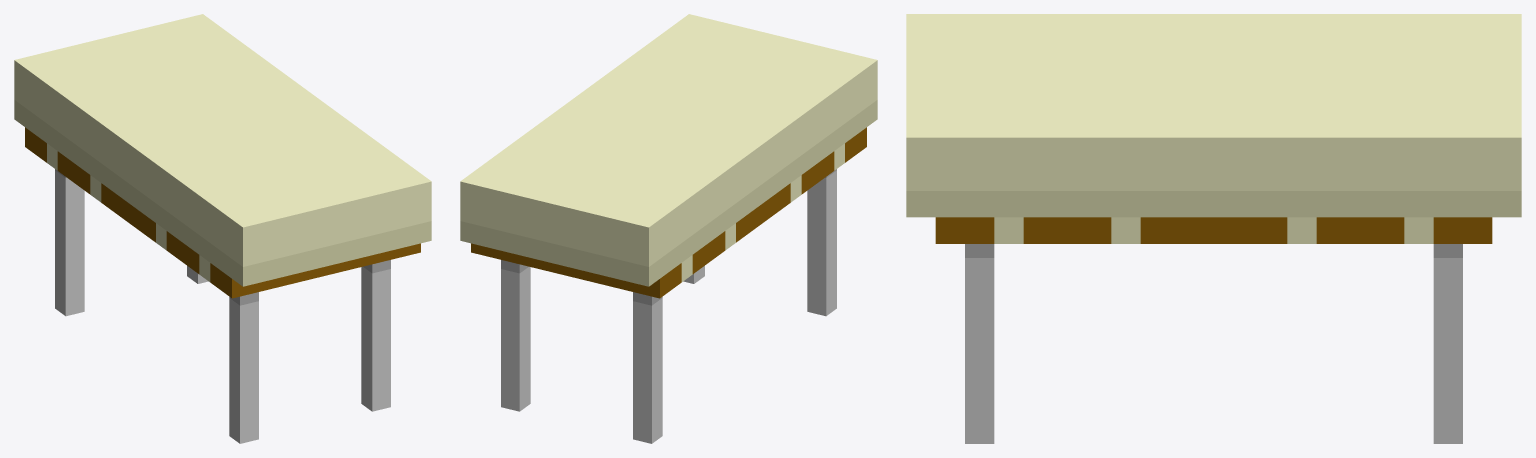
File: White Bench.obj
The picture shows the model from 3 angles, left to right: view 1: azimuth 30°, elevation 25°; view 2: azimuth 150°, elevation 25°; view 3: azimuth 270°, elevation 25°; orthographic projection. The views are drawn at different scales.
Bounding box in the file's own units: 10 × 12 × 21.
Materials: 1 (1 with a texture image).
